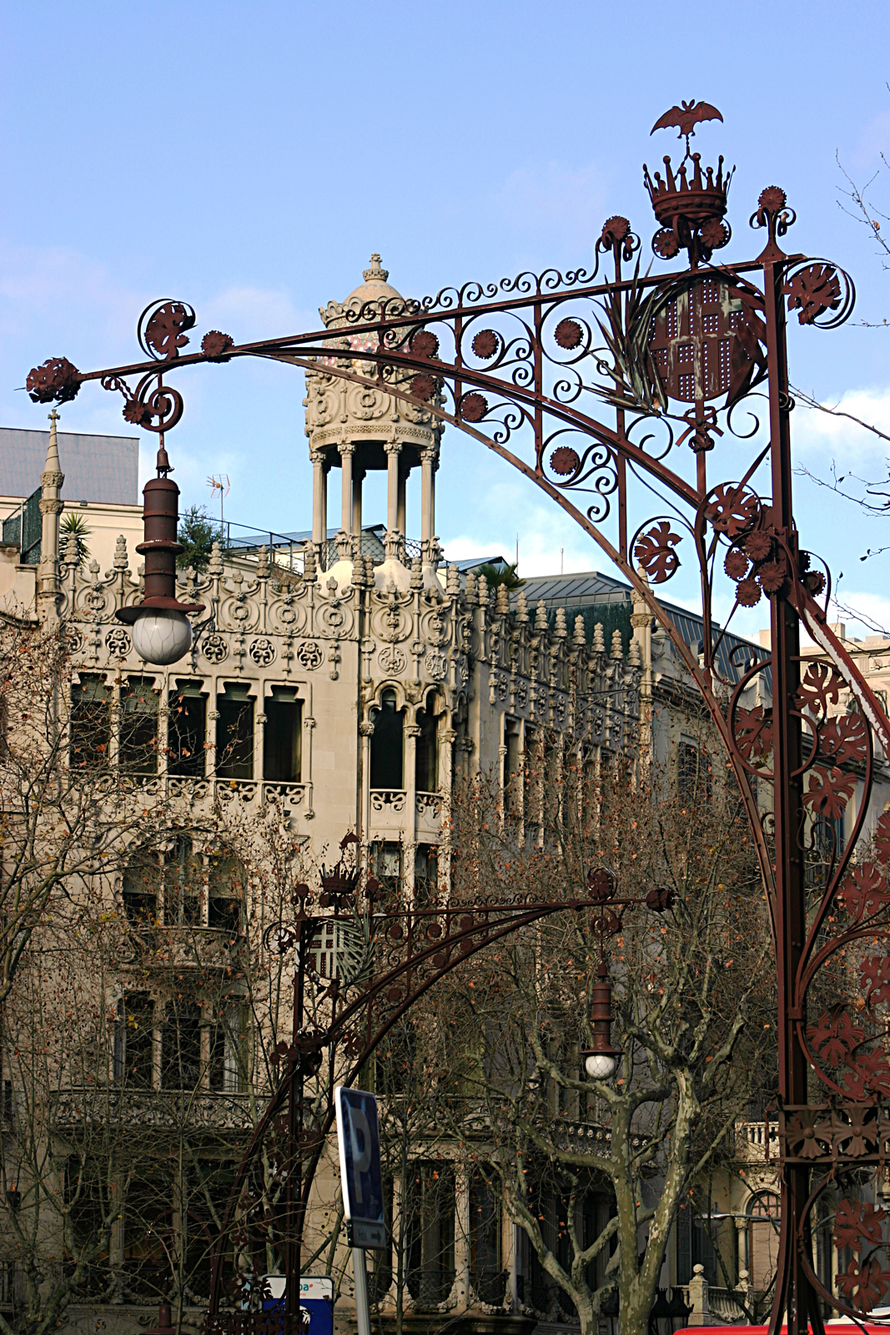fachada: (0, 225, 767, 1331)
poste: (38, 159, 851, 1314)
